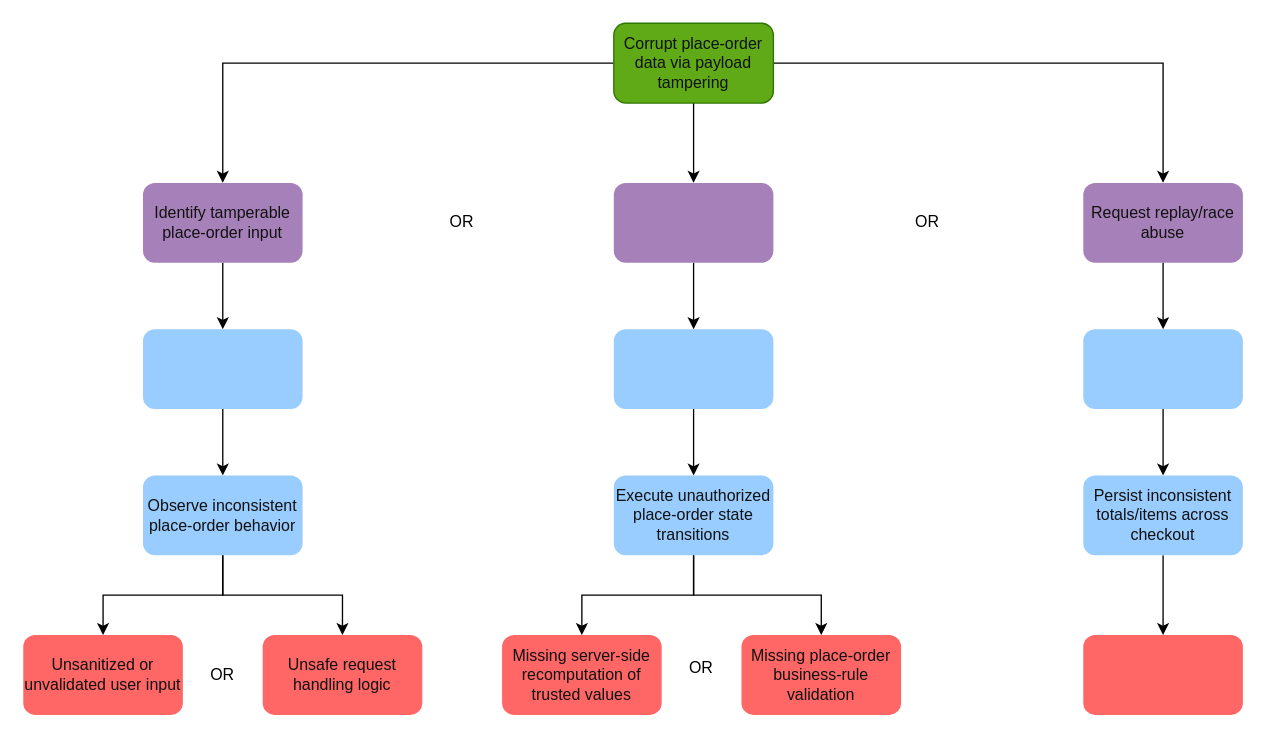
Some shapes in this 1265 by 738 pixel diagram are drawn without their labels. Each missing label, with the centre of its shape:
"Inject tampered values to bypass business validation" goes at point (693, 368).
"Manipulate place-order processing data" goes at point (693, 222).
"Replay/parallelize requests to force inconsistent order state" goes at point (1162, 368).
"Send crafted payloads in place-order inputs" goes at point (222, 368).
"Weak atomicity and idempotency controls" goes at point (1162, 674).
